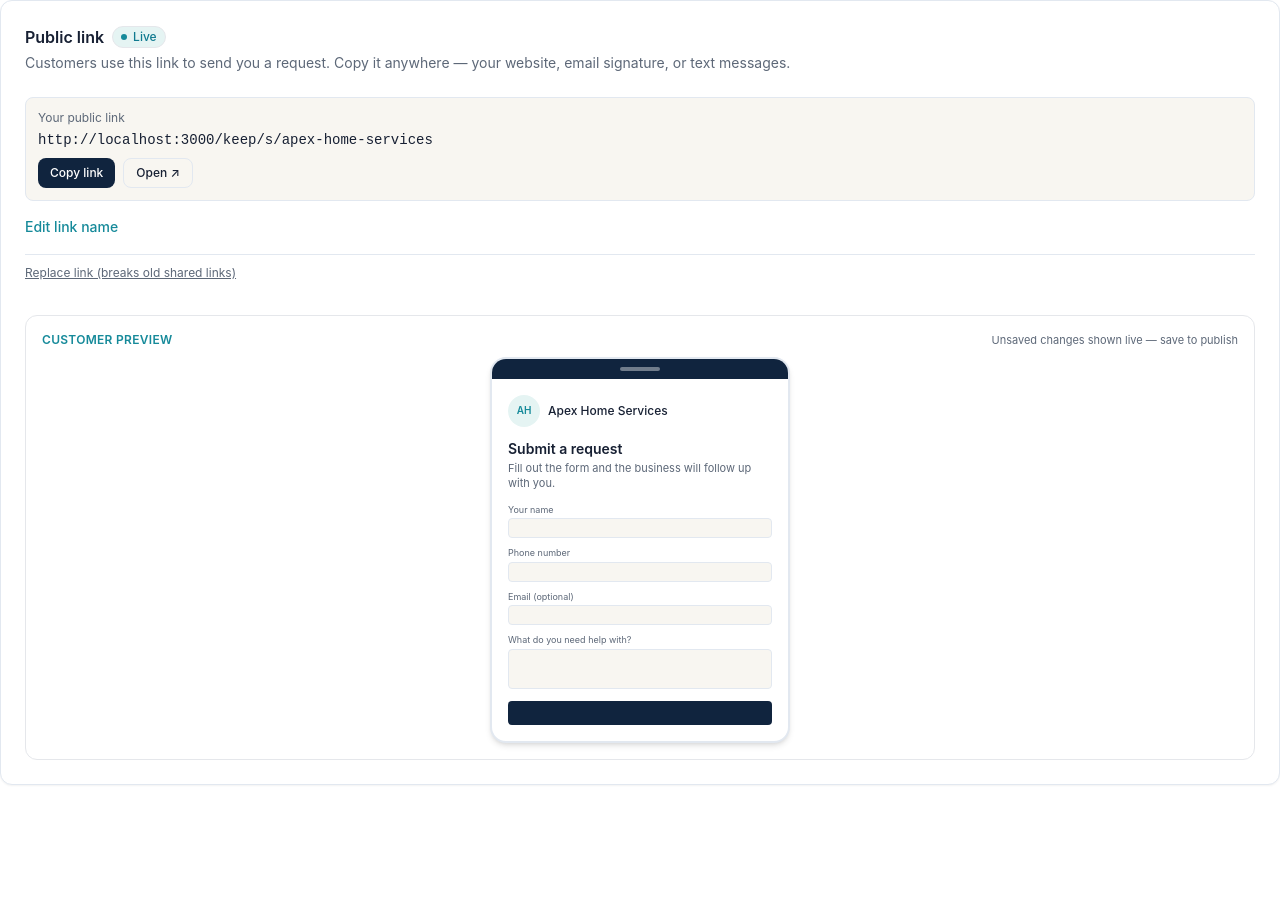
PublicLinkSection replace-link dialog › opens an accessible dialog with the confirm action disabled until REPLACE is typed exactly
Click the button "Replace link (breaks old shared links)" at (130, 273), box [25,265,236,281]
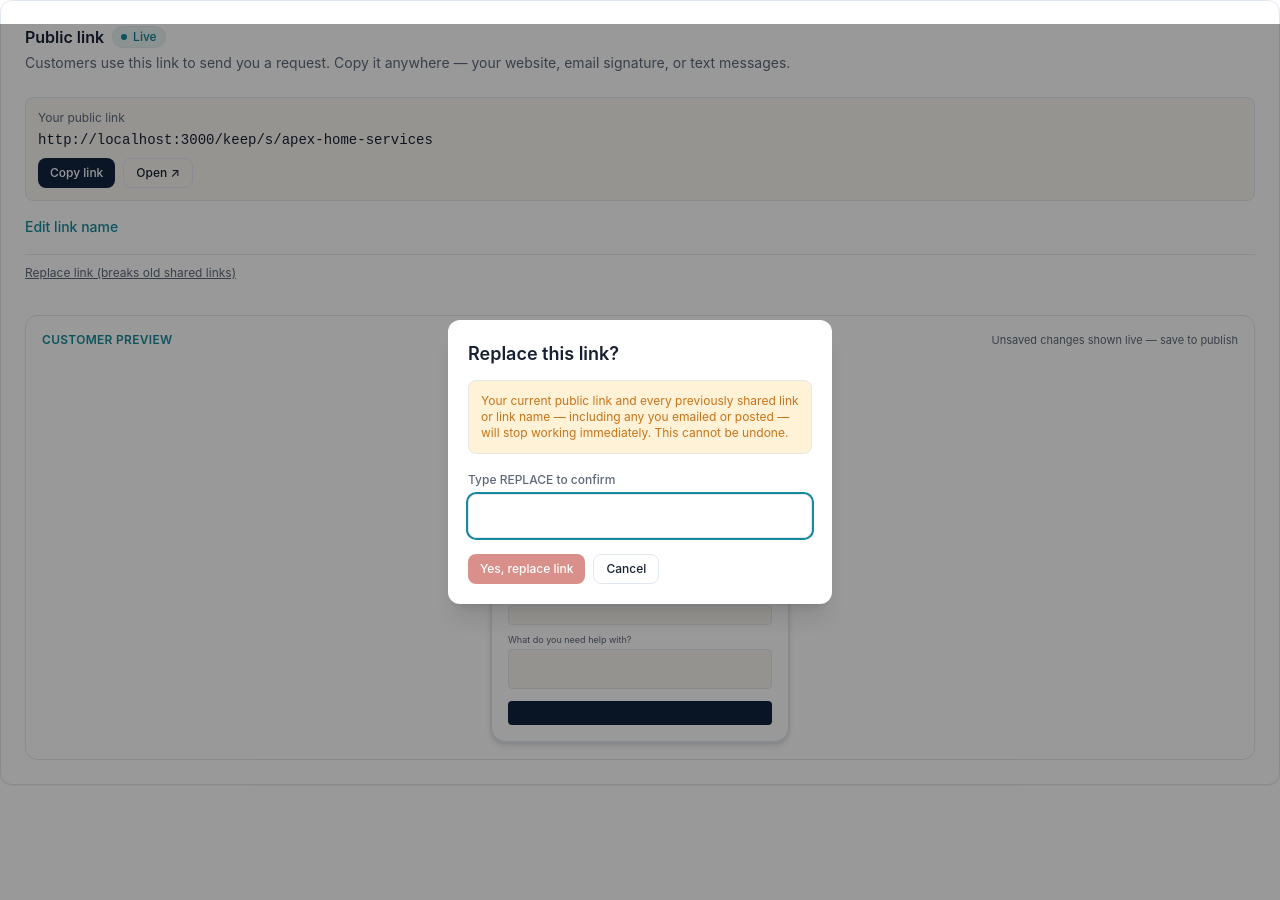
Result: the button "Yes, replace link" is disabled at [468,554,585,584]
Type "replace" into the field labelled "Type REPLACE to confirm" at (640, 516), box [468,494,812,538]
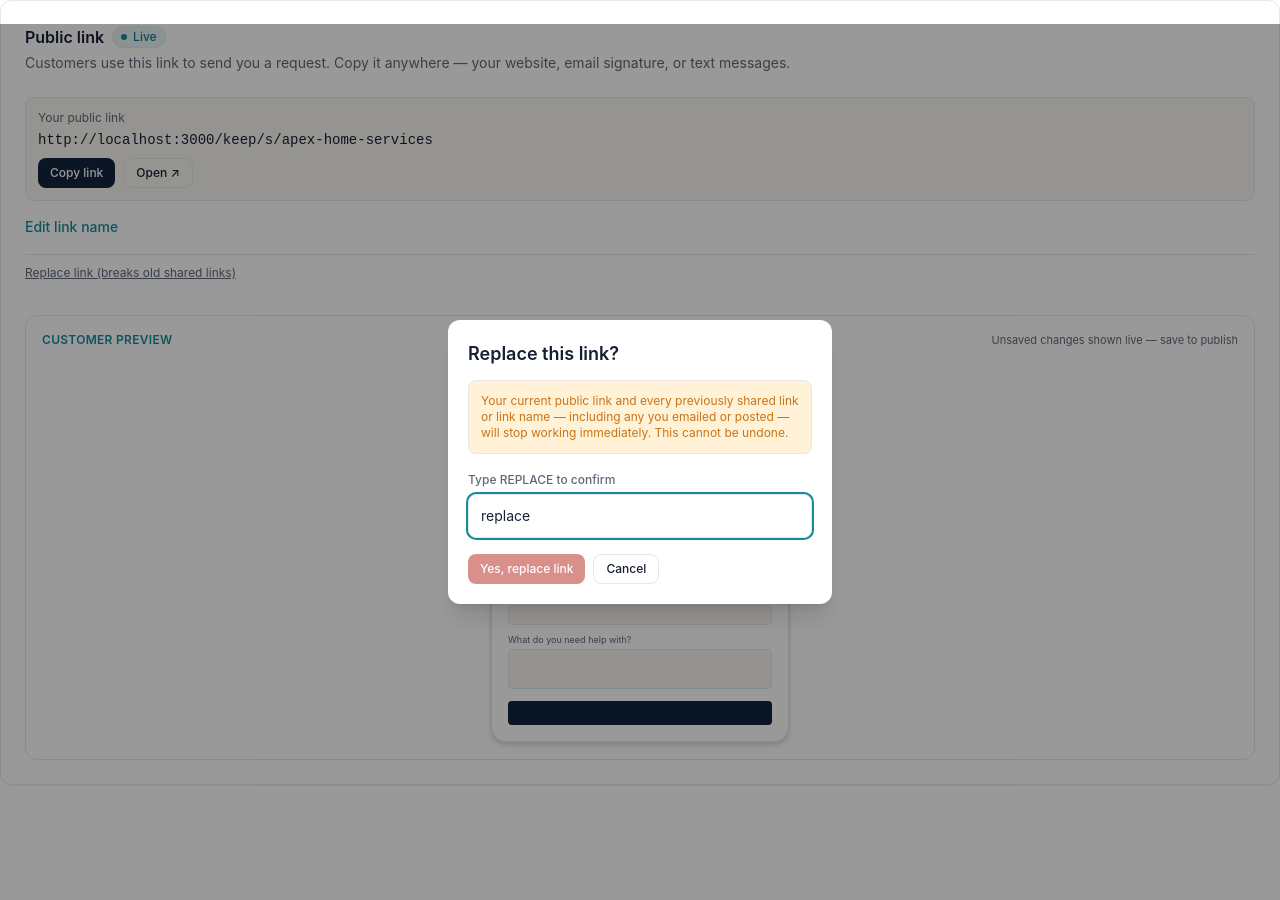
Result: the button "Yes, replace link" is disabled at [468,554,585,584]
Replace the text in the field labelled "Type REPLACE to confirm" with "REPLACE" at (640, 516), box [468,494,812,538]
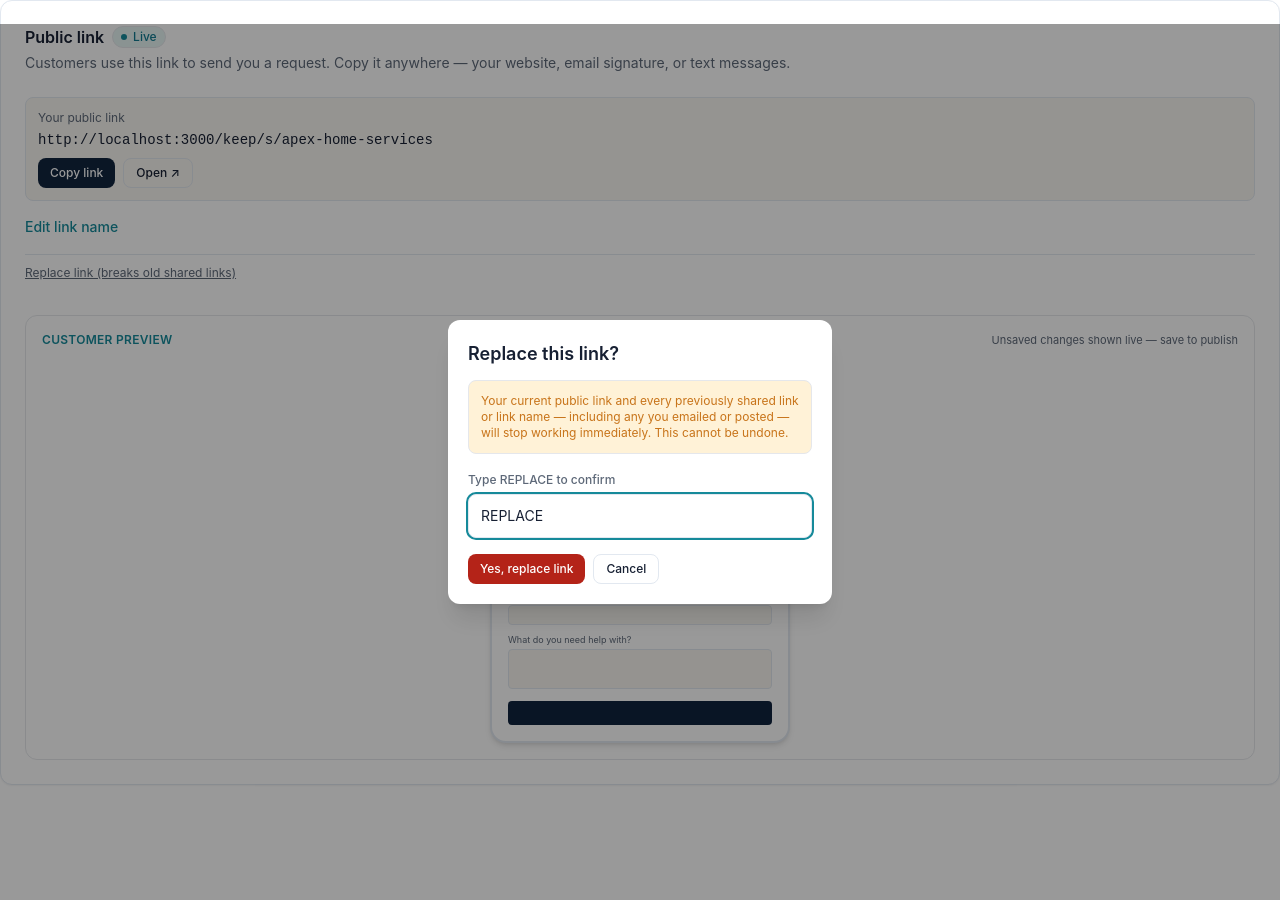
Result: the button "Yes, replace link" is enabled at [468,554,585,584]
